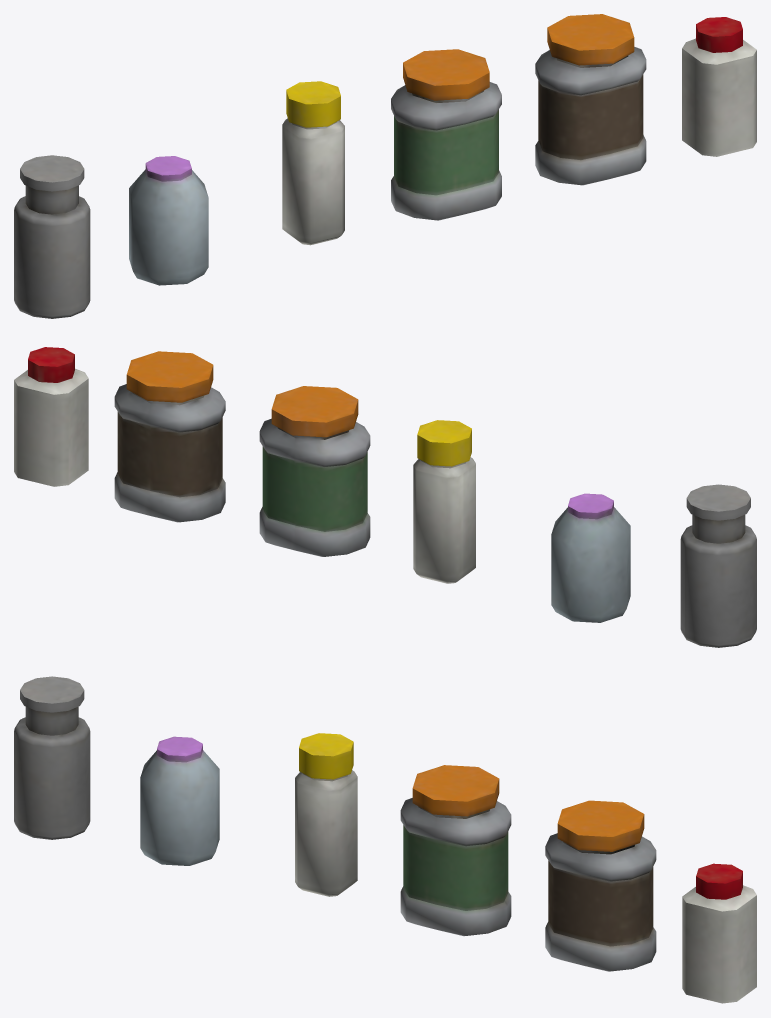
Rendered from PlasticContainerSet.FBX.
3 views of the same model, one above another, from view 1: azimuth 30°, elevation 25°; view 2: azimuth 150°, elevation 25°; view 3: azimuth 330°, elevation 25° (orthographic).
Visible parts, largest first — view 1: PlasticContainer_02, PlasticContainer_01, PlasticContainer_04, PlasticContainer_06, PlasticContainer_05, PlasticContainer_03; view 2: PlasticContainer_02, PlasticContainer_01, PlasticContainer_04, PlasticContainer_06, PlasticContainer_05, PlasticContainer_03; view 3: PlasticContainer_02, PlasticContainer_01, PlasticContainer_04, PlasticContainer_06, PlasticContainer_05, PlasticContainer_03.
Part boxes in pixels (x1,y1,x2,y2): PlasticContainer_02: (535,14,646,185); PlasticContainer_01: (391,49,501,220); PlasticContainer_04: (14,155,90,318); PlasticContainer_06: (282,81,344,245); PlasticContainer_05: (682,17,756,156); PlasticContainer_03: (129,156,208,285); PlasticContainer_02: (114,351,225,522); PlasticContainer_01: (259,386,370,556); PlasticContainer_04: (680,484,756,647); PlasticContainer_06: (413,420,475,583); PlasticContainer_05: (14,347,88,486); PlasticContainer_03: (551,493,630,622); PlasticContainer_02: (545,800,656,971); PlasticContainer_01: (400,765,511,936); PlasticContainer_04: (14,676,90,839); PlasticContainer_06: (295,733,357,896); PlasticContainer_05: (682,863,756,1003); PlasticContainer_03: (140,736,219,865).
Size of the model in its own units: 90.45 by 16.81 by 10.11.
